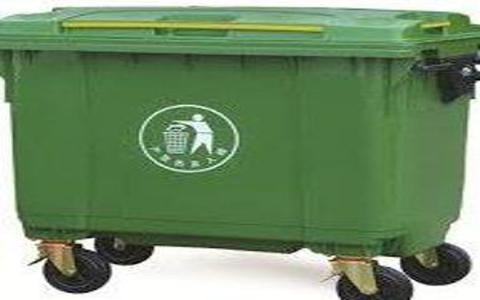Proper garbage: (1, 2, 478, 300)
